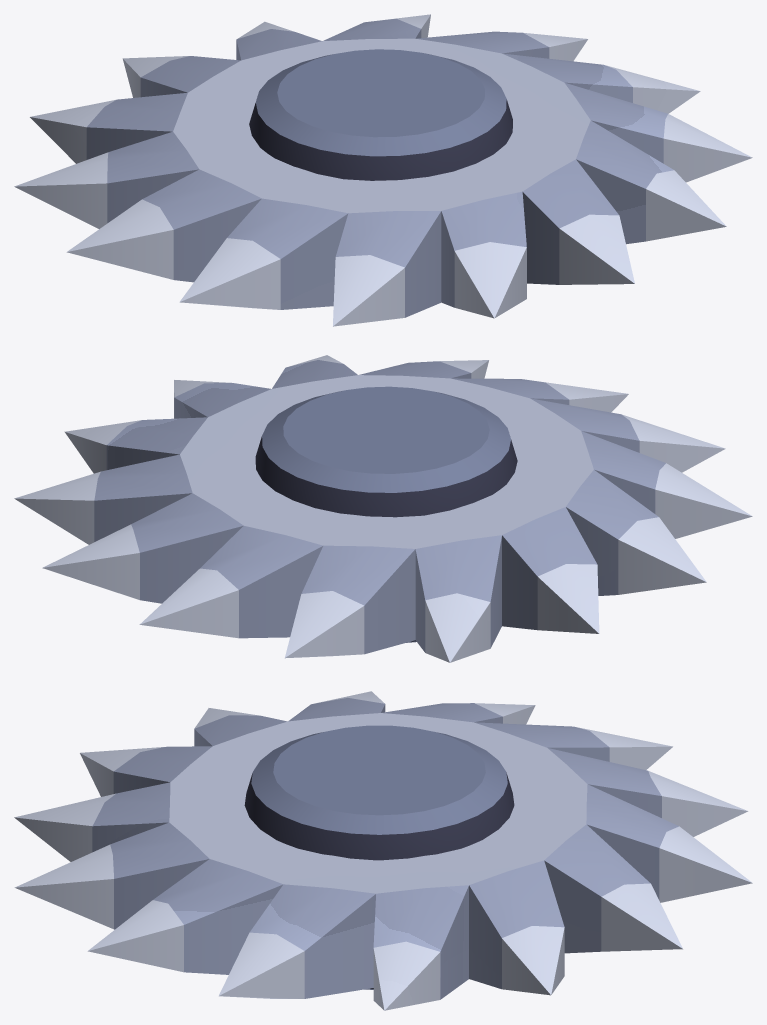
The picture shows the model from 3 angles, top to bottom: view 1: azimuth 30°, elevation 25°; view 2: azimuth 150°, elevation 25°; view 3: azimuth 270°, elevation 25°; orthographic projection. The views are drawn at different scales.
Parts seen in each view (by area): view 1: Saw; view 2: Saw; view 3: Saw.
Part boxes in pixels (left/top/right/bottom): Saw: left=14, top=14, right=752, bottom=326; Saw: left=14, top=355, right=752, bottom=662; Saw: left=14, top=691, right=752, bottom=1010.
Bounding box in the file's own units: 3.02 × 0.7708 × 2.95.
Materials: 1 (1 with a texture image).
